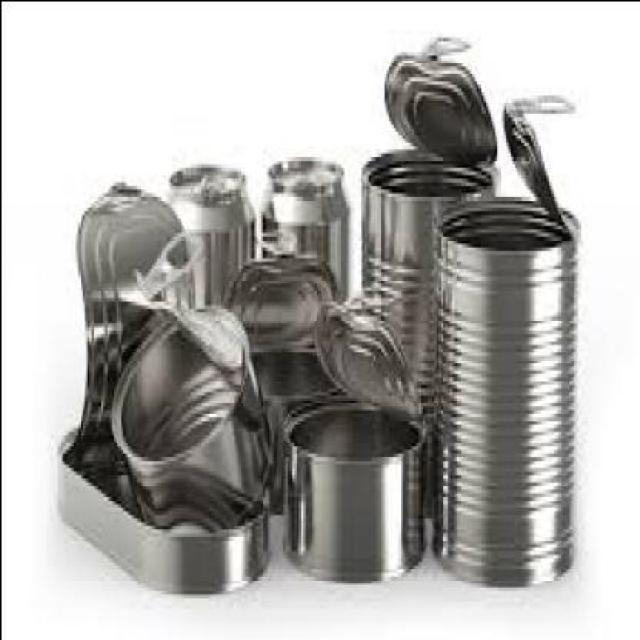METAL: (435, 197, 577, 588), (362, 151, 492, 560), (58, 414, 269, 595), (118, 308, 274, 531), (72, 183, 192, 443), (286, 400, 423, 585), (386, 38, 498, 169), (318, 283, 418, 423), (266, 157, 348, 302), (168, 165, 249, 309), (225, 257, 337, 352), (505, 94, 577, 223), (254, 348, 354, 414)
